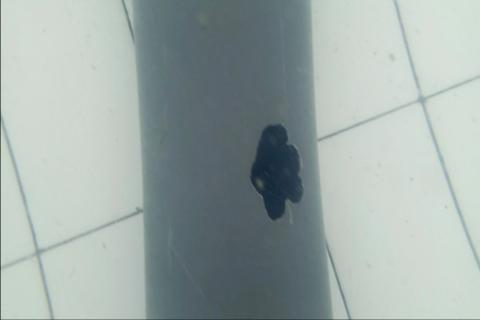kebocoran: (247, 123, 305, 220)
